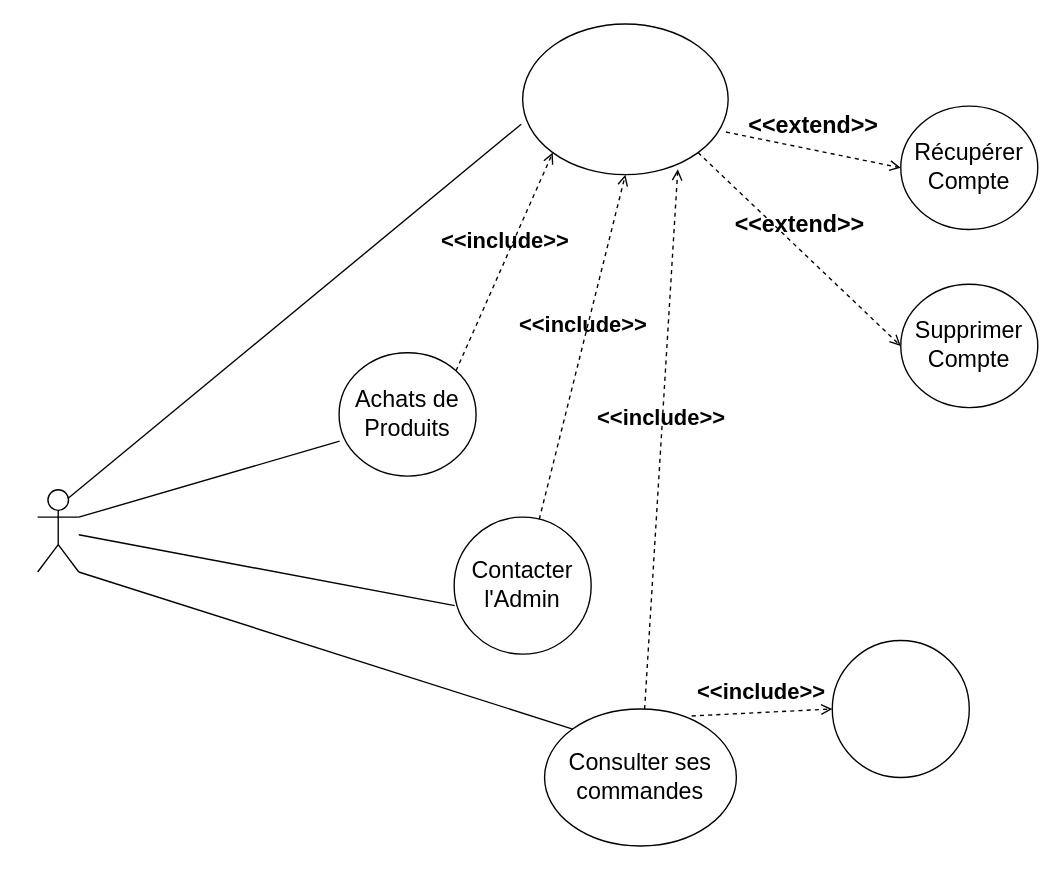
The diagram is 1062 pixels wide and 881 high, and some of its shapes have lost their labels. Each missing label, with the box of its shape:
Authentification: (521, 23, 728, 175)
Client: (36, 488, 79, 572)
Valider Panier: (831, 639, 969, 777)
